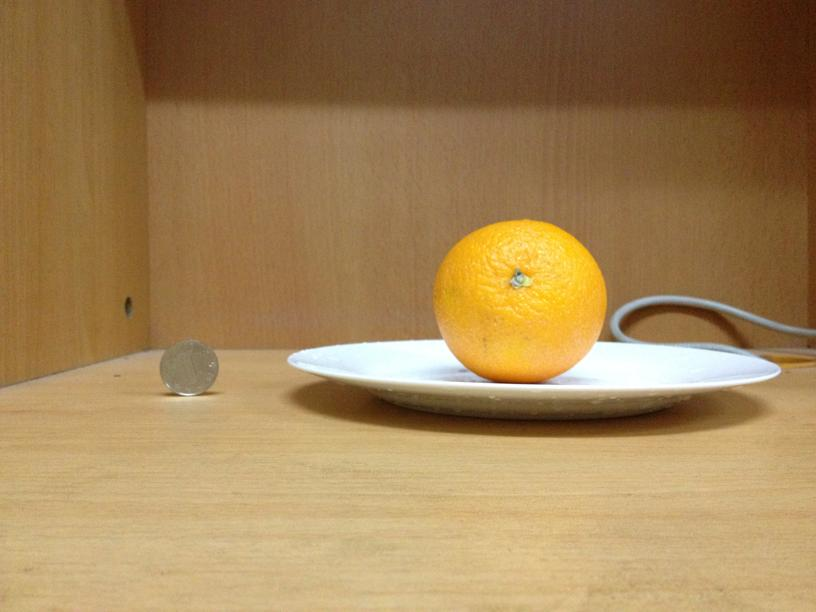coin: (157, 340, 222, 394)
orange: (430, 219, 607, 381)
